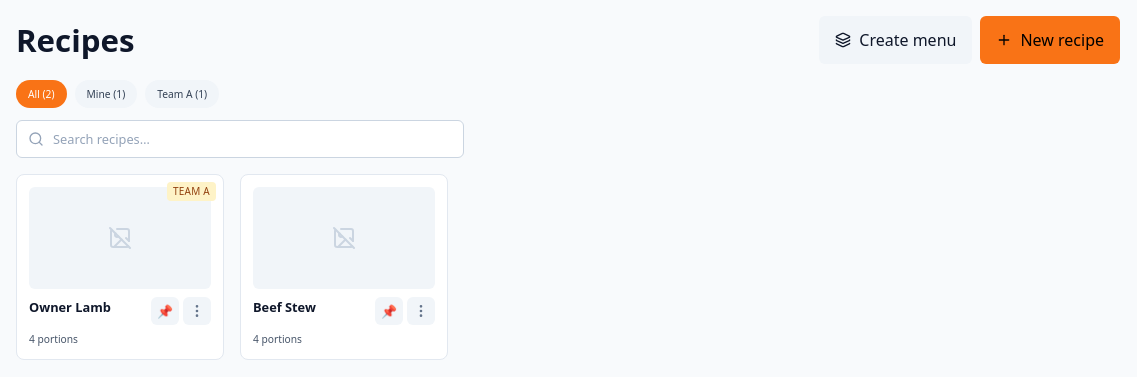
Test case: RecipesLibrary — Mine vs Shared scope filter (T3c follow-up) › clicking "Mine" hides shared cards
Expected: the element with test id "recipes-scope-chip-row" is shown, [16, 80, 219, 108]
Click the tab with test id "recipes-scope-mine": [106, 94] box [74, 80, 137, 108]
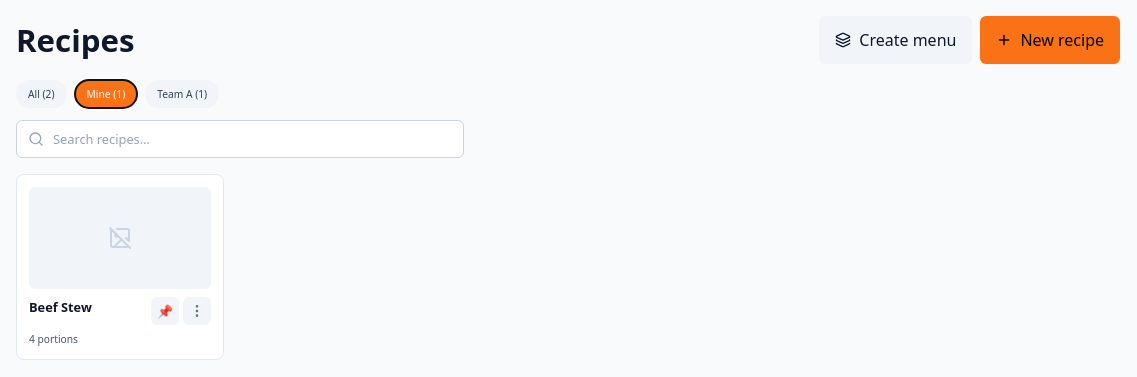
Expected: the link "Beef Stew" is shown, [29, 298, 92, 316]
Expected: the link "Owner Lamb" is gone
